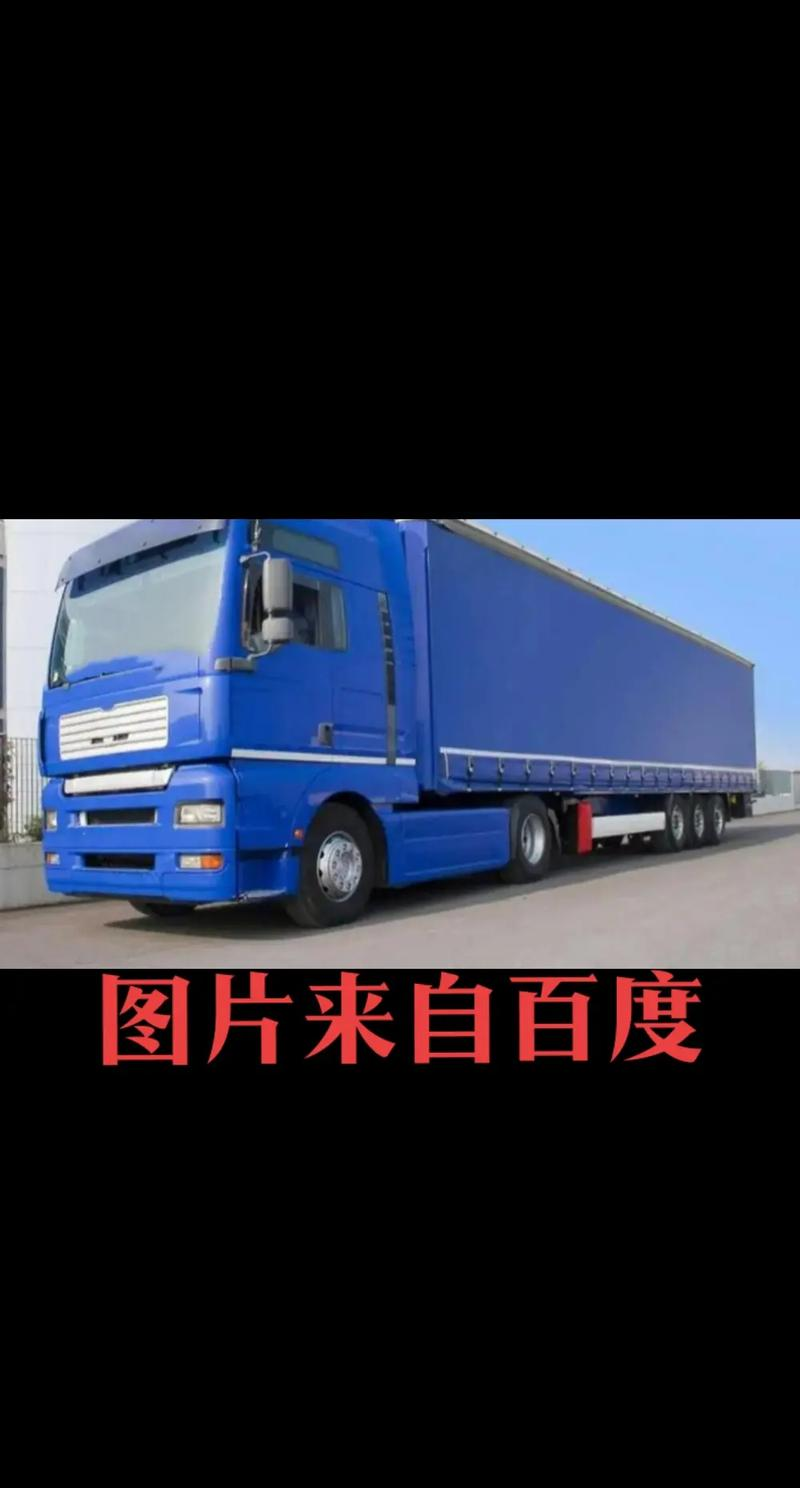卡车: (34, 520, 775, 941)
